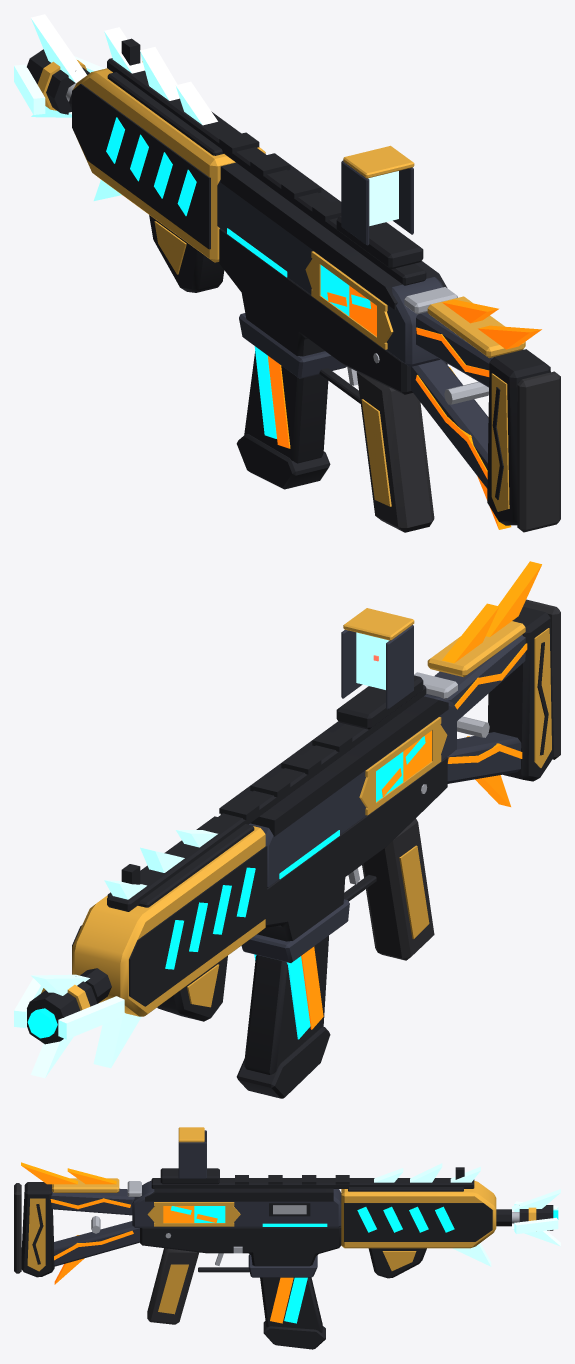
Rendered from ARX27.glb.
The picture shows the model from 3 angles, top to bottom: view 1: azimuth 30°, elevation 25°; view 2: azimuth 150°, elevation 25°; view 3: azimuth 270°, elevation 25°; orthographic projection. The views are drawn at different scales.
Parts seen in each view (by area): view 1: Lower, HandguardCore, Grip, ButtPad, Body, Brow, Handguard, Mag, Rail, StockLower, StockButt, MagPlate (+27 smaller); view 2: Lower, Handguard, HandguardCore, Brow, Mag, Grip, Body, StockButt, Rail, MagPlate, StockLower, MagwellFlare (+26 smaller); view 3: Lower, HandguardCore, Handguard, Body, Brow, Rail, Grip, StockLower, StockButt, Mag, StockTop, MagPlate (+27 smaller).
Part boxes in pixels (<box>): Lower: <box>219,228,447,394</box>; HandguardCore: <box>72,83,210,249</box>; Grip: <box>356,371,434,532</box>; ButtPad: <box>517,371,560,532</box>; Body: <box>217,180,443,366</box>; Brow: <box>220,153,447,309</box>; Handguard: <box>73,61,265,262</box>; Mag: <box>244,351,328,463</box>; Rail: <box>107,58,426,285</box>; StockLower: <box>411,359,488,488</box>; StockButt: <box>487,349,550,525</box>; MagPlate: <box>236,434,330,489</box>; Lower: <box>257,757,447,941</box>; Handguard: <box>72,826,265,1016</box>; HandguardCore: <box>72,846,267,1006</box>; Brow: <box>220,696,448,836</box>; Mag: <box>244,936,328,1074</box>; Grip: <box>362,818,434,960</box>; Body: <box>249,694,456,887</box>; StockButt: <box>488,606,553,781</box>; Rail: <box>107,685,426,911</box>; MagPlate: <box>236,1027,330,1098</box>; StockLower: <box>447,732,521,783</box>; MagwellFlare: <box>241,899,349,962</box>; Lower: <box>140,1226,341,1266</box>; HandguardCore: <box>344,1203,492,1241</box>; Handguard: <box>341,1180,496,1248</box>; Body: <box>132,1181,341,1227</box>; Brow: <box>145,1180,333,1201</box>; Rail: <box>151,1178,474,1188</box>; Grip: <box>147,1248,199,1324</box>; StockLower: <box>54,1221,139,1266</box>; StockButt: <box>21,1182,54,1277</box>; Mag: <box>260,1277,322,1332</box>; StockTop: <box>51,1188,134,1215</box>; MagPlate: <box>263,1321,325,1349</box>.
Size of the model in its own units: 0.4418 by 1.81 by 4.24.
